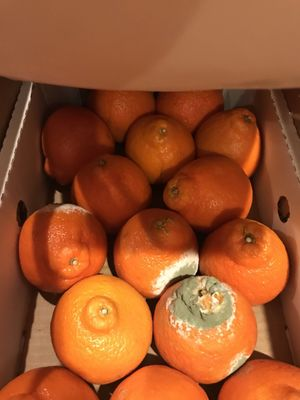taco: (14, 87, 299, 398), (152, 276, 258, 385), (51, 275, 153, 384), (19, 203, 108, 298), (198, 218, 289, 307), (112, 208, 200, 299), (162, 155, 254, 233), (71, 154, 153, 233), (41, 105, 117, 187), (108, 364, 210, 400), (88, 90, 155, 144), (216, 358, 300, 400), (0, 366, 101, 400)
